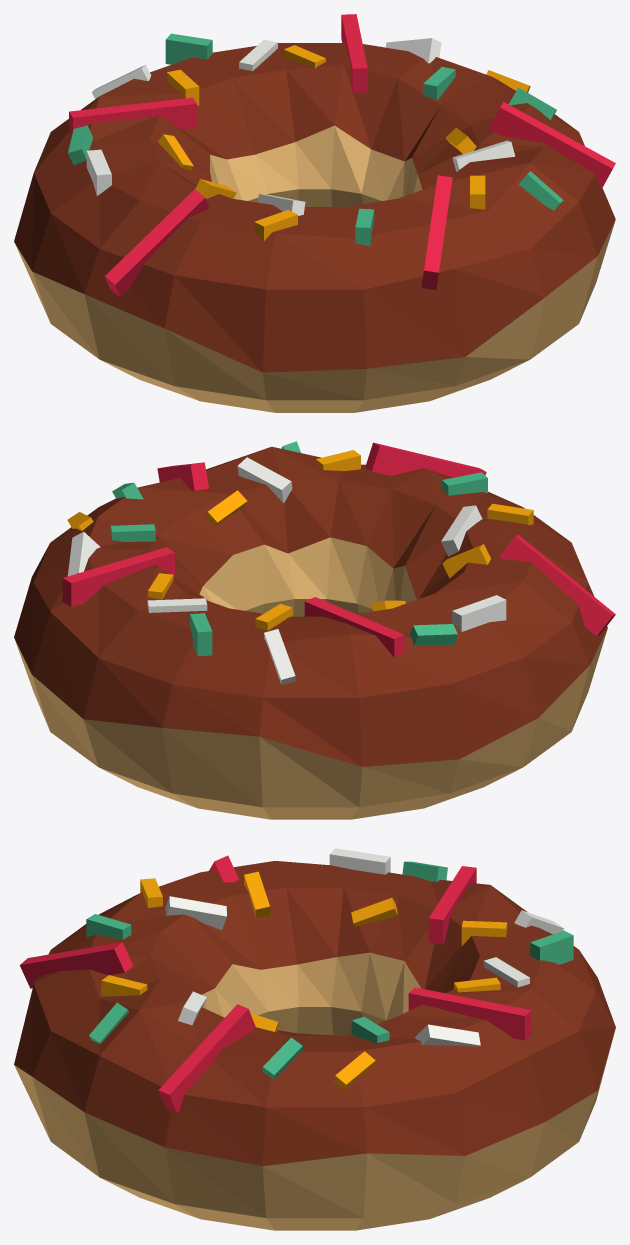
File: donutA.FBX
3 views of the same model, one above another, from view 1: azimuth 30°, elevation 25°; view 2: azimuth 150°, elevation 25°; view 3: azimuth 270°, elevation 25° (orthographic).
Parts seen in each view (by area): view 1: donutA; view 2: donutA; view 3: donutA.
Part boxes in pixels (bbox=[...]): donutA: bbox=[14, 14, 615, 412]; donutA: bbox=[14, 441, 615, 819]; donutA: bbox=[14, 848, 615, 1230].
Size of the model in its own units: 3.51 by 1.35 by 3.56.
